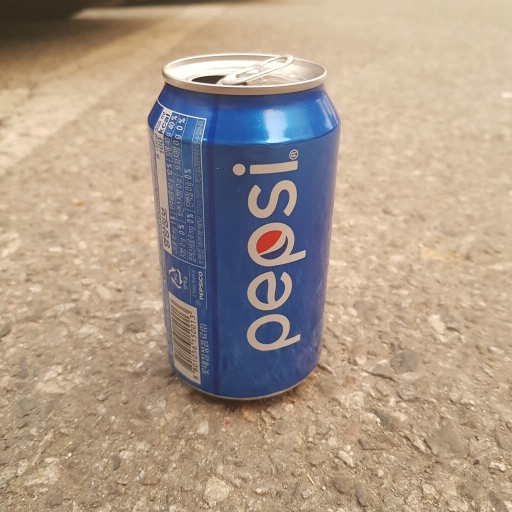Metal_0: (143, 48, 342, 403)
